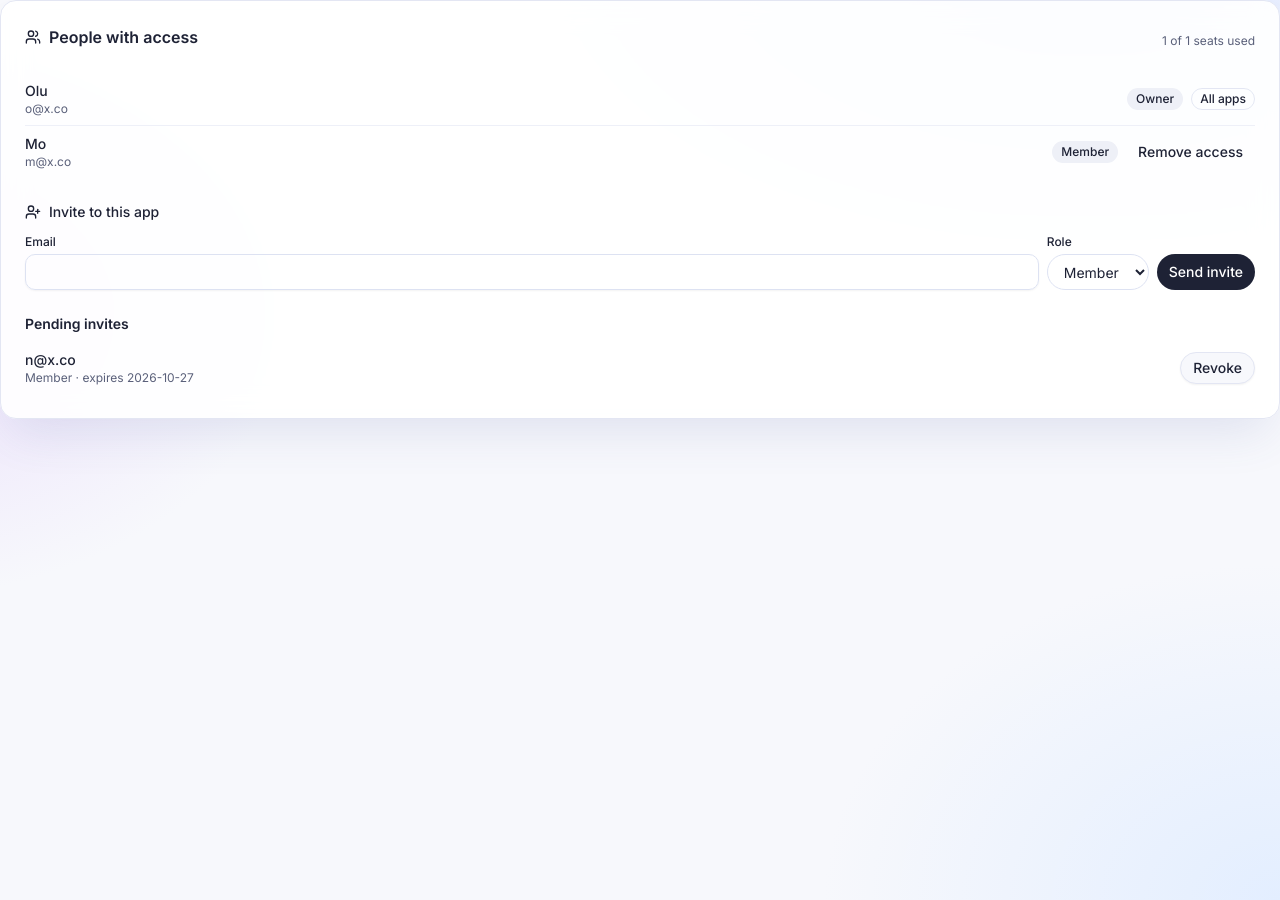
Test case: People › revokes a pending invite
The image size is (1280, 900).
Click the button named "Revoke the invite for n@x.co" at (1218, 368), box top-left (1180, 352), bottom-right (1255, 384)
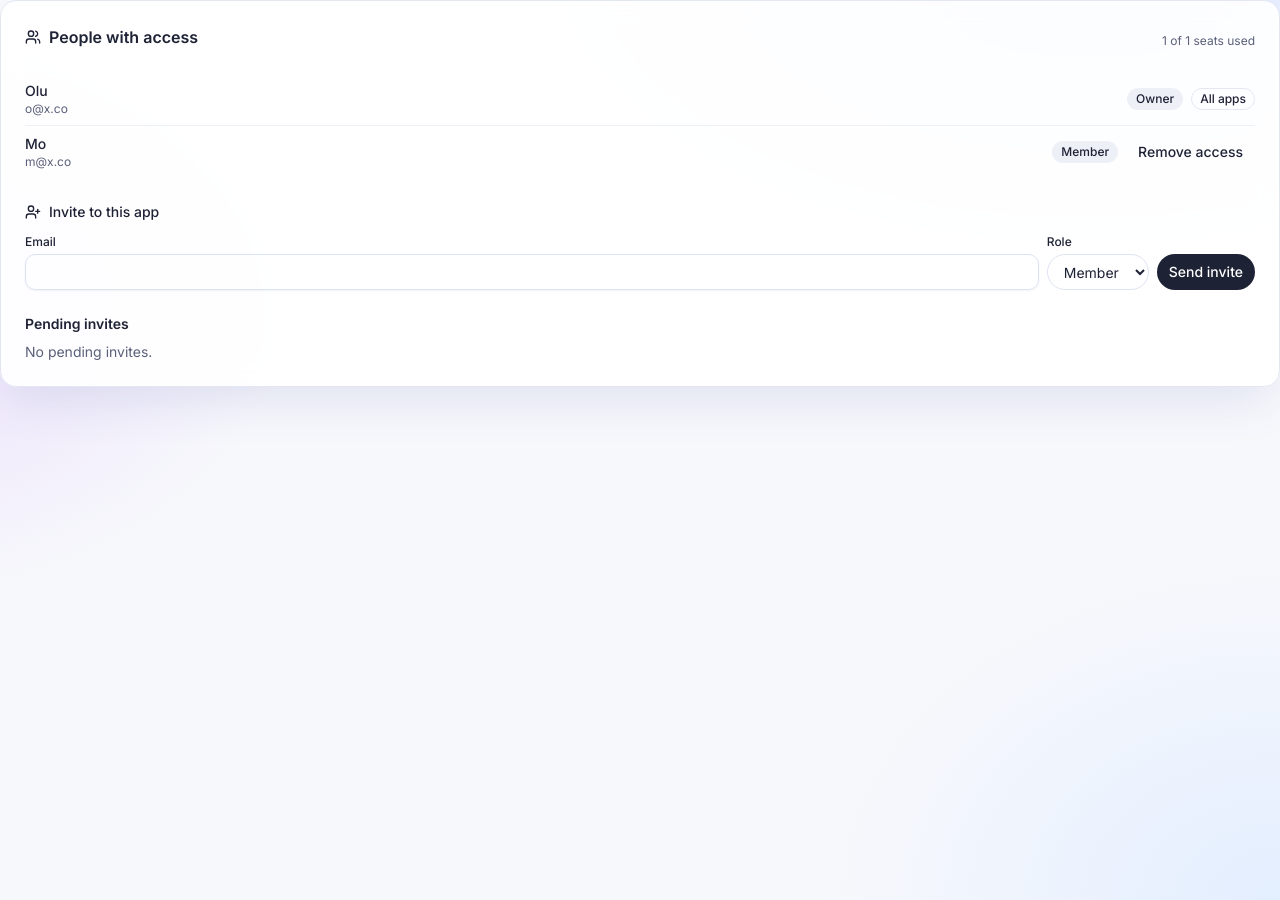
Check: the heading "Pending invites" is shown, box top-left (25, 315), bottom-right (129, 332)
Check: the text "n@x.co" is gone
